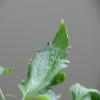Tomato leaf: (17, 17, 71, 98)
